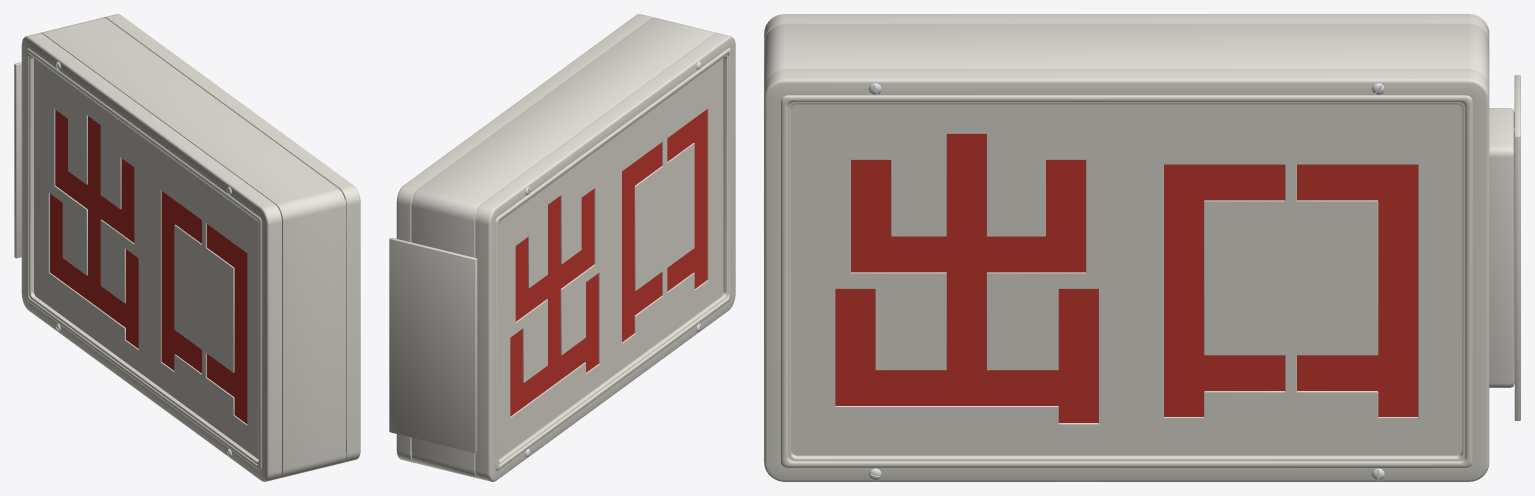
The model's file is Kit_ExitSign_End.fbx.
The picture shows the model from 3 angles, left to right: view 1: azimuth 30°, elevation 25°; view 2: azimuth 150°, elevation 25°; view 3: azimuth 270°, elevation 25°; orthographic projection. The views are drawn at different scales.
Parts seen in each view (by area): view 1: Kit_ExitSign_End_LOD0; view 2: Kit_ExitSign_End_LOD0; view 3: Kit_ExitSign_End_LOD0.
Part boxes in pixels (bbox=[...]): Kit_ExitSign_End_LOD0: bbox=[14, 14, 360, 481]; Kit_ExitSign_End_LOD0: bbox=[389, 14, 735, 481]; Kit_ExitSign_End_LOD0: bbox=[764, 14, 1520, 481].
Size of what is drawn, in the model's own units: 0.0789 by 0.212 by 0.361.
